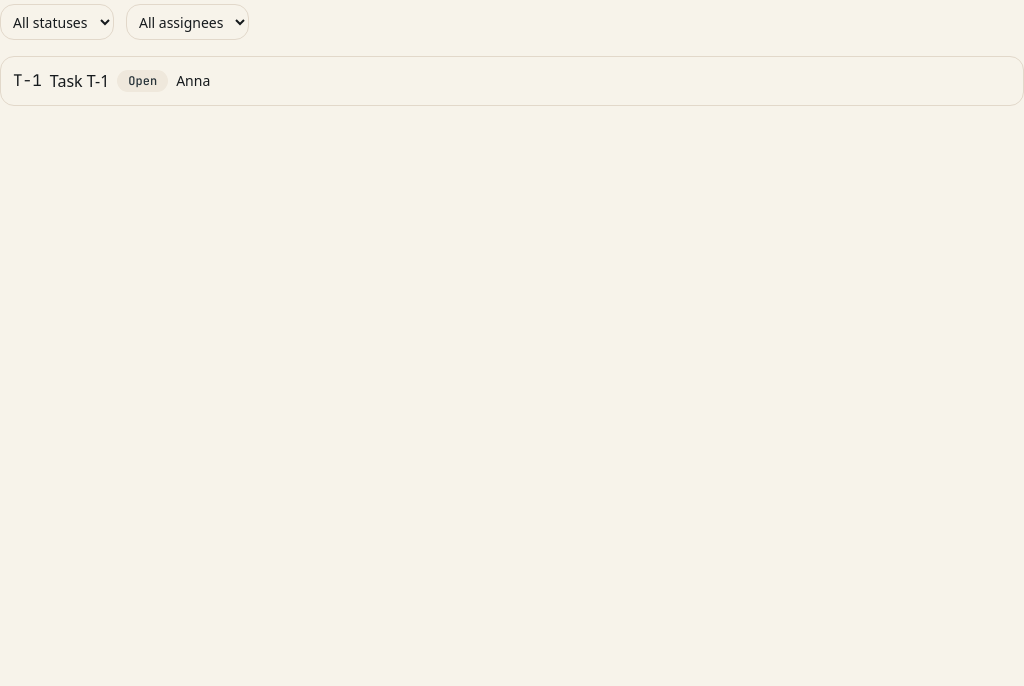
Scenario: manual edit › PATCHes only the changed fields and offers only legal status transitions
The image size is (1024, 686).
Click the button with test id "task-row-T-1" at (80, 81), box [0,56,1023,106]
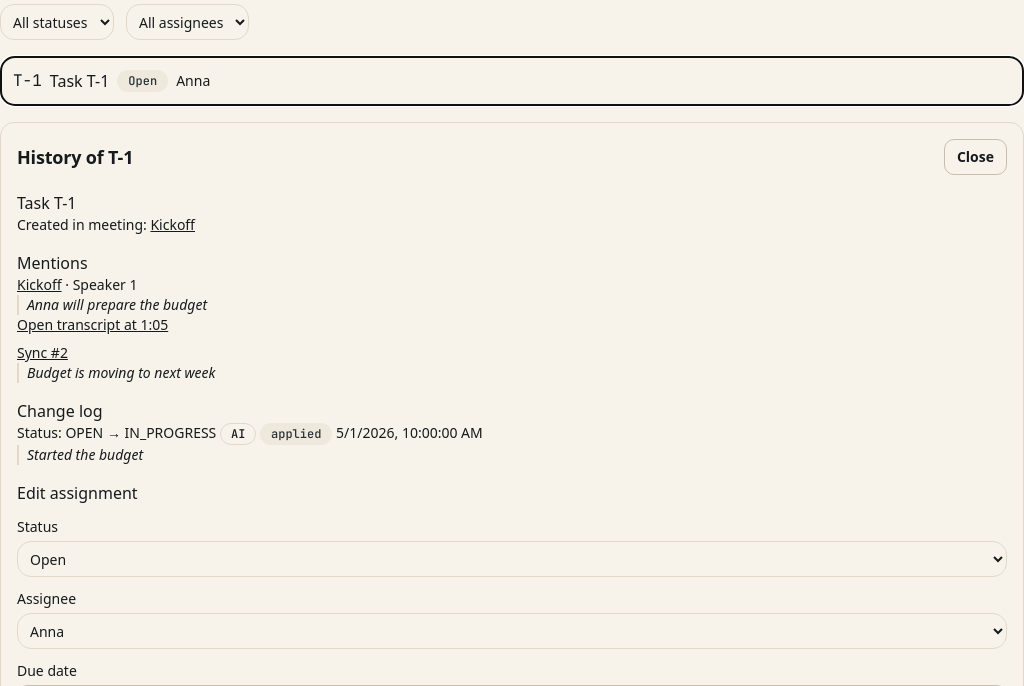
Select "Done" in the dropdown with test id "task-edit-status" at (512, 559), box [17,541,1007,577]
(page scrolled)
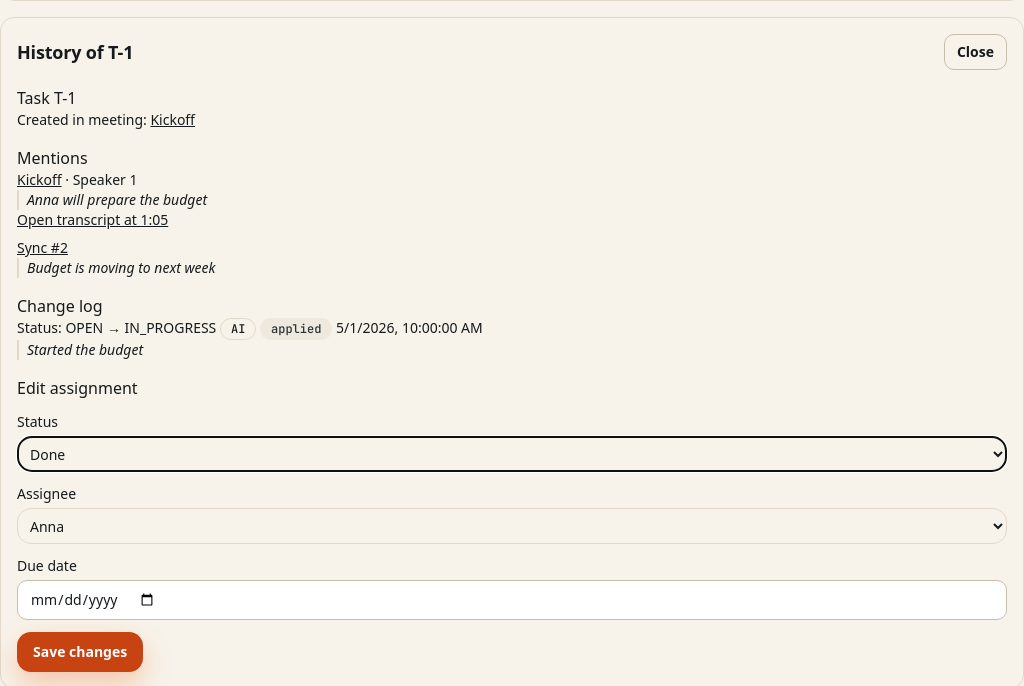
Type "2026-06-01" into the date field with test id "task-edit-due" at (512, 600), box [17,580,1007,620]
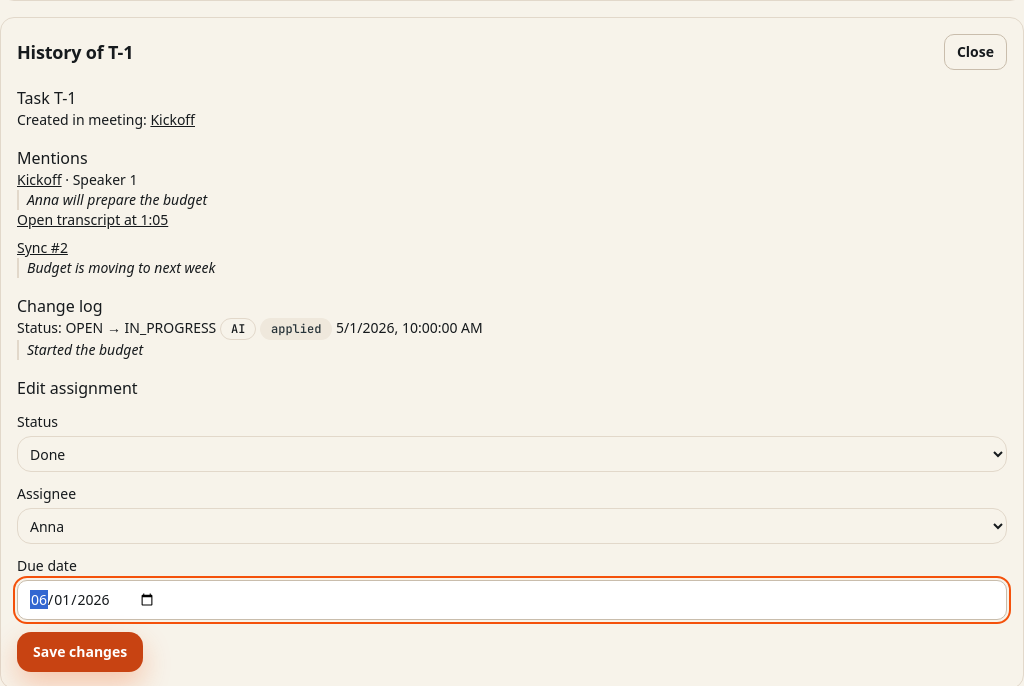
Click the button with test id "task-edit-save" at (80, 652), box [17,632,143,672]
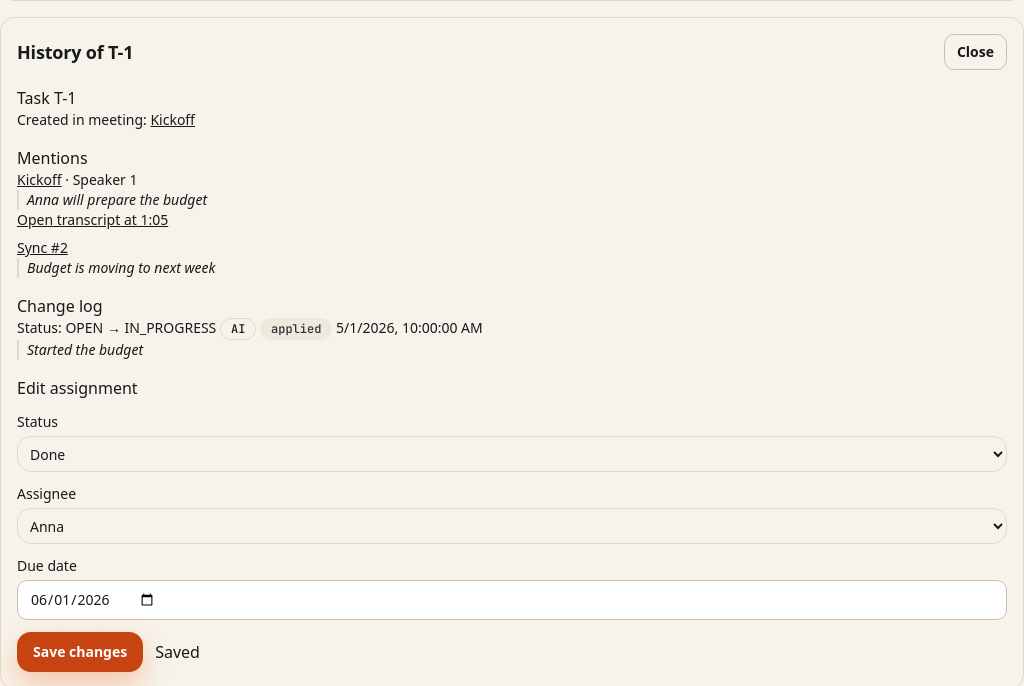
Check: the dropdown with test id "task-edit-status" shows "Done", box [17,436,1007,472]
Check: the text "Saved" is shown, box [155,640,200,664]
